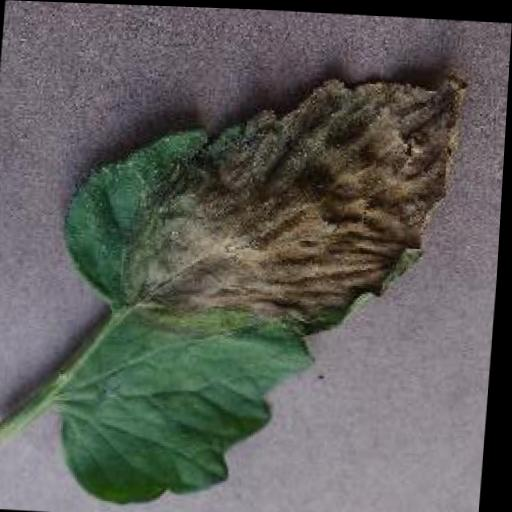Late Blight: (47, 55, 471, 512)
